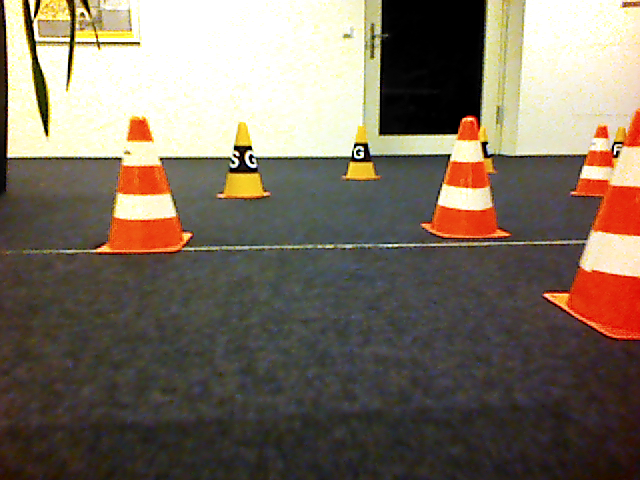orangeconesmall: (547, 108, 638, 342), (95, 114, 193, 257), (419, 116, 513, 241), (569, 122, 608, 197)
yellowcone: (216, 120, 270, 199), (342, 126, 381, 181), (485, 127, 498, 173)
